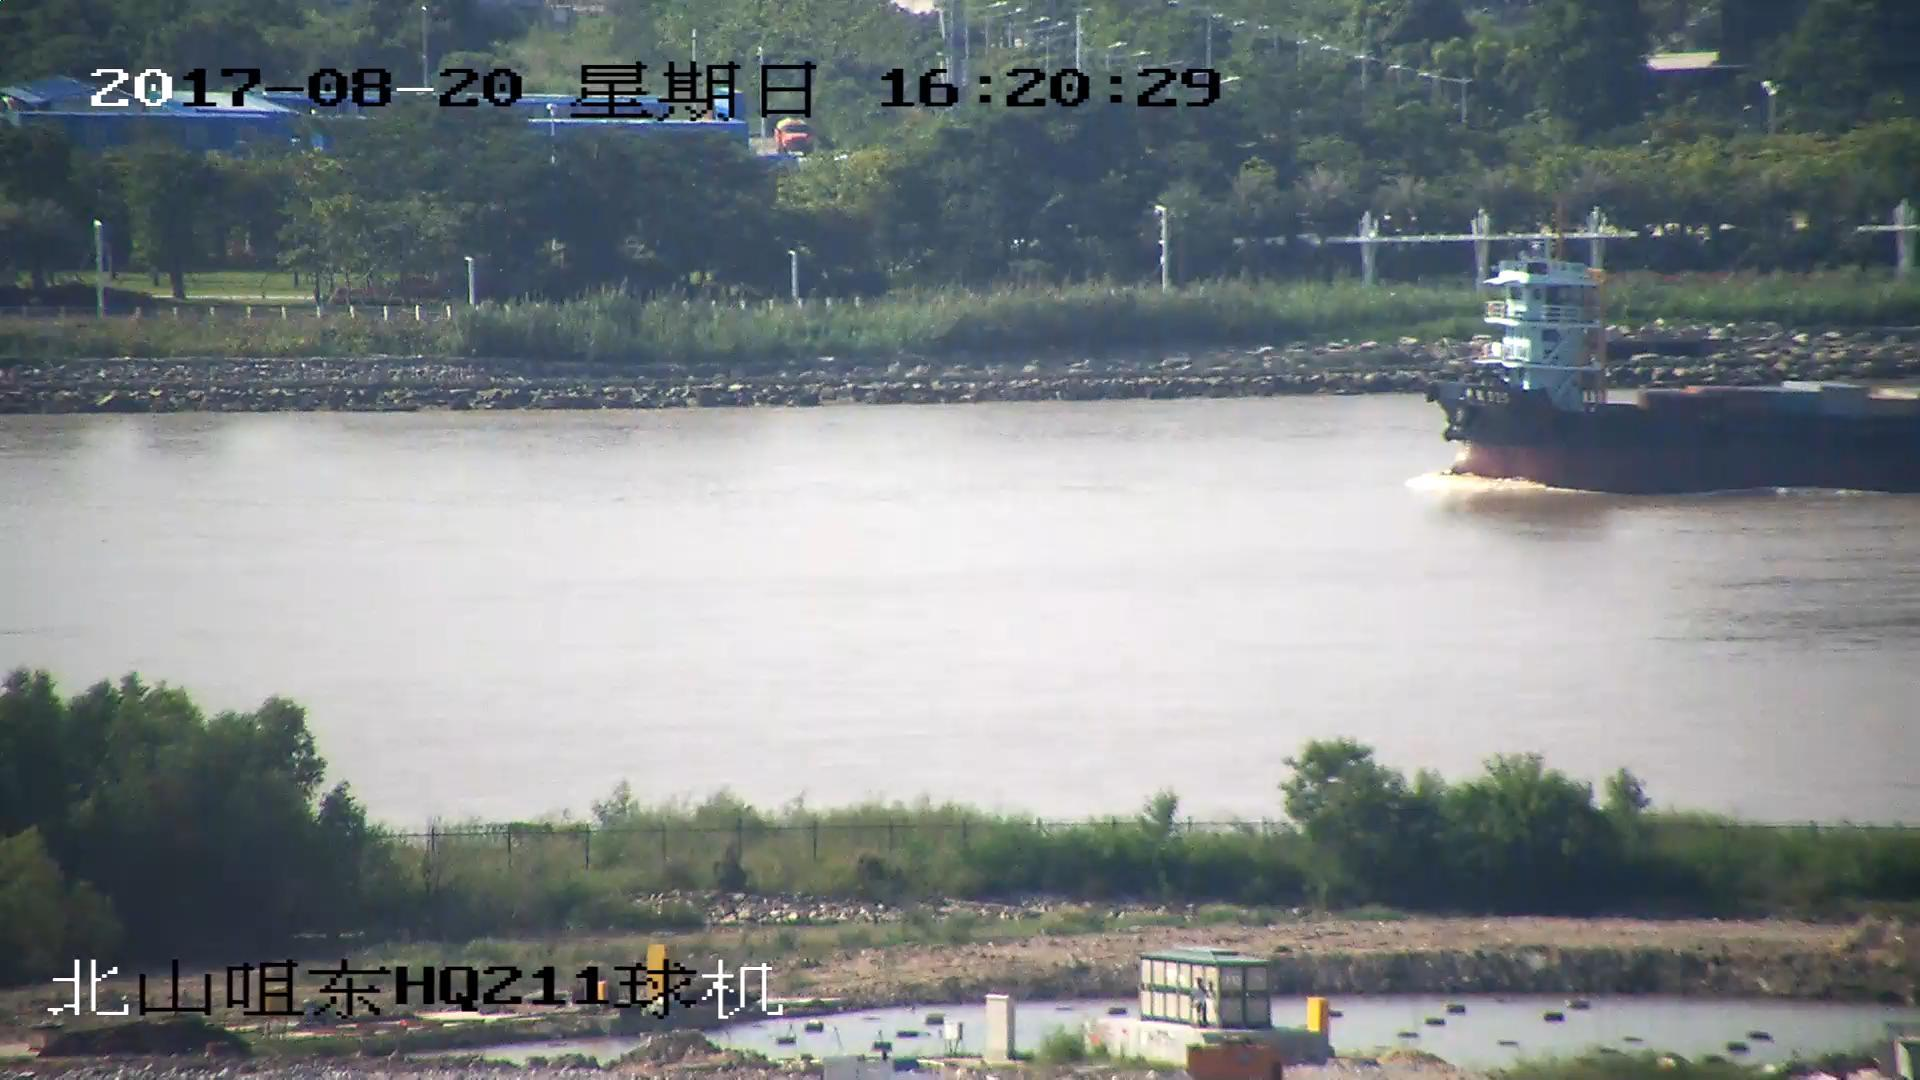Ship: (1441, 244, 1920, 495)
